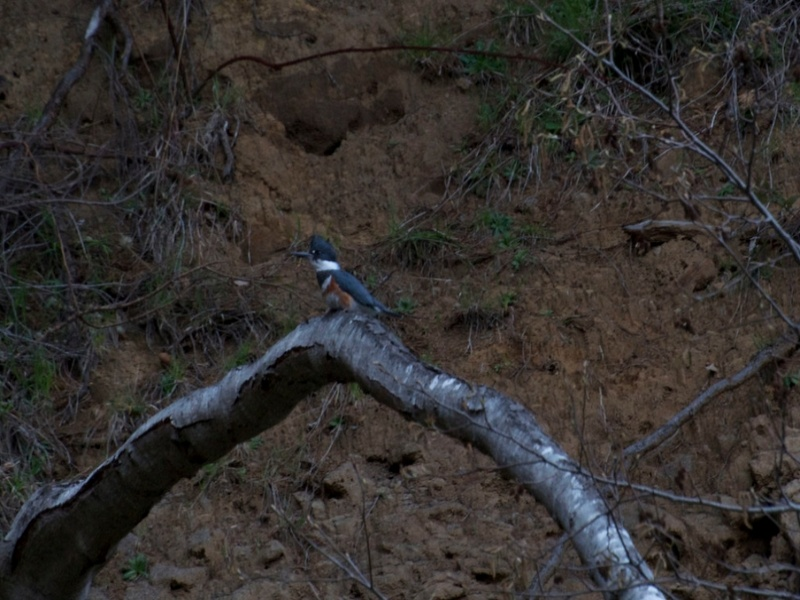kingfisher: (288, 233, 397, 318)
